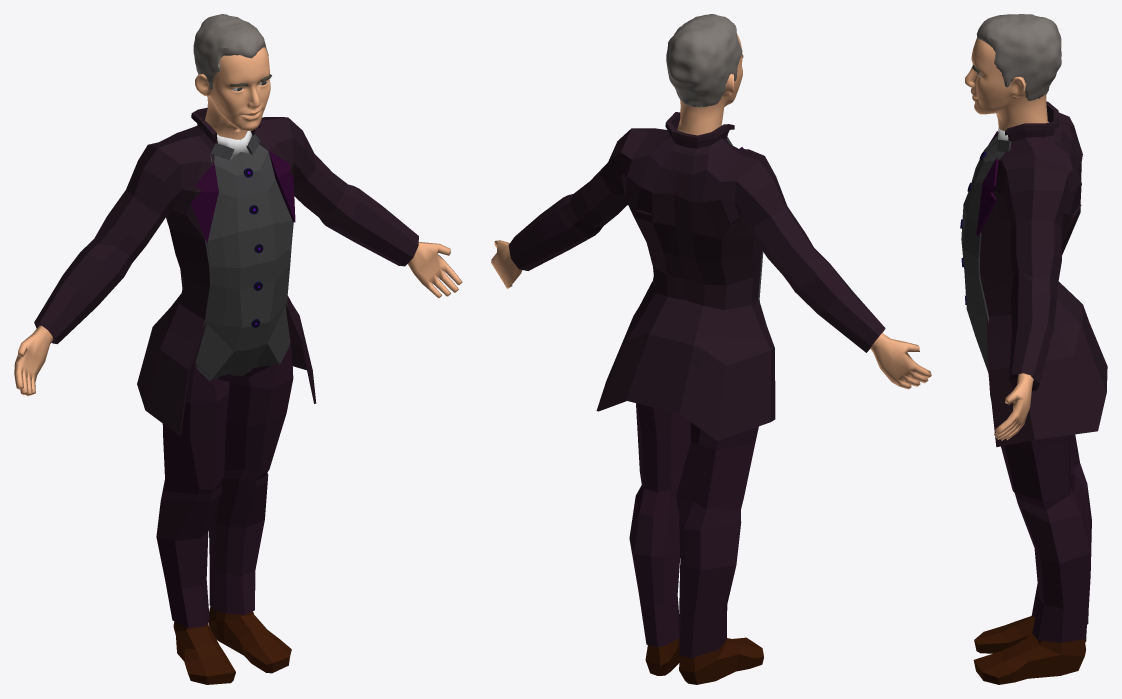
File: padrecito.fbx
The picture shows the model from 3 angles, left to right: view 1: azimuth 30°, elevation 25°; view 2: azimuth 150°, elevation 25°; view 3: azimuth 270°, elevation 25°; orthographic projection.
Parts seen in each view (by area): view 1: Male_Character.003, Male_Character.004, Male_Character.002, Male_Character, Male_Character.005, Wolf3D_Head.002; view 2: Male_Character.003, Male_Character.004, Wolf3D_Head.002, Male_Character, Male_Character.005; view 3: Male_Character.003, Male_Character.004, Male_Character, Male_Character.005, Wolf3D_Head.002, Male_Character.002.
Boxes of the visible parts, <box> form: Male_Character.003: <box>34,107,418,435</box>; Male_Character.004: <box>156,341,293,627</box>; Male_Character.002: <box>195,134,293,381</box>; Male_Character: <box>14,47,462,396</box>; Male_Character.005: <box>173,606,291,684</box>; Wolf3D_Head.002: <box>193,14,268,96</box>; Male_Character.003: <box>508,112,885,440</box>; Male_Character.004: <box>629,403,758,658</box>; Wolf3D_Head.002: <box>666,14,742,107</box>; Male_Character: <box>491,34,931,389</box>; Male_Character.005: <box>645,637,763,684</box>; Male_Character.003: <box>976,101,1107,447</box>; Male_Character.004: <box>989,380,1091,642</box>; Male_Character: <box>965,37,1047,440</box>; Male_Character.005: <box>973,616,1086,684</box>; Wolf3D_Head.002: <box>976,14,1061,100</box>; Male_Character.002: <box>961,132,1011,372</box>.
Bounding box in the file's own units: 1453 × 2004 × 416.
